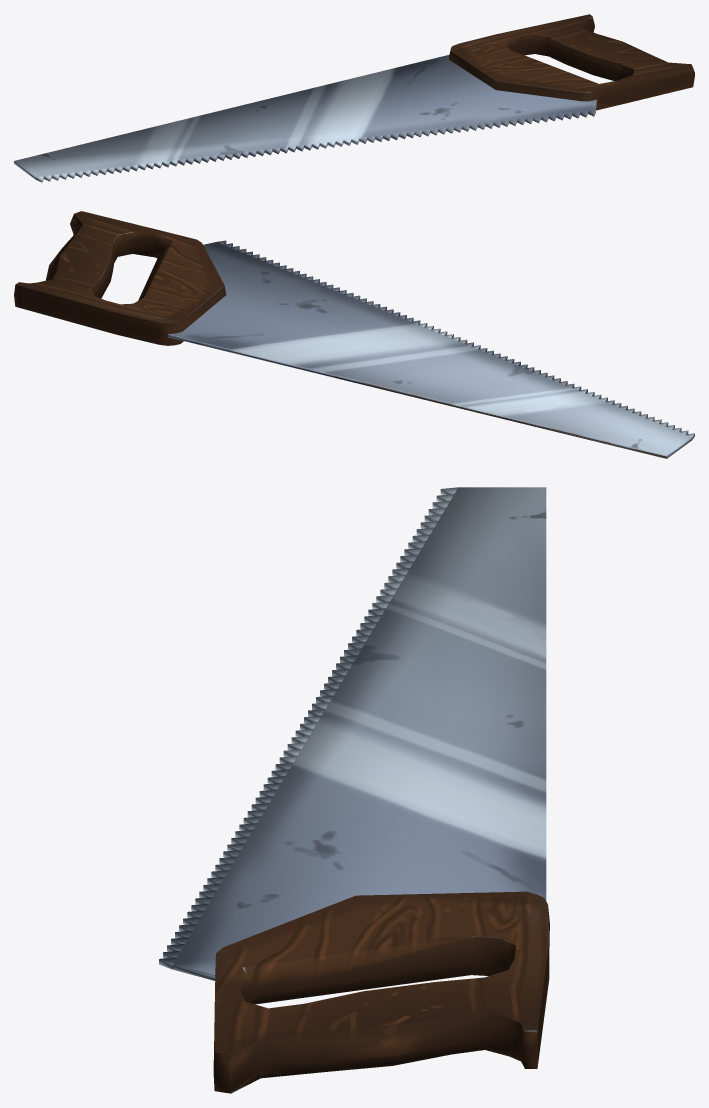
The model's file is Testere.fbx.
The picture shows the model from 3 angles, top to bottom: view 1: azimuth 30°, elevation 25°; view 2: azimuth 150°, elevation 25°; view 3: azimuth 270°, elevation 25°; orthographic projection. The views are drawn at different scales.
Parts seen in each view (by area): view 1: Saw; view 2: Saw; view 3: Saw.
Boxes of the visible parts, x1,y1,x2,y2 form: Saw: [14, 14, 694, 182]; Saw: [14, 211, 694, 458]; Saw: [159, 487, 549, 1093].
Size of the model in its own units: 2955 by 90.73 by 831.
Materials: 1 (1 with a texture image).
